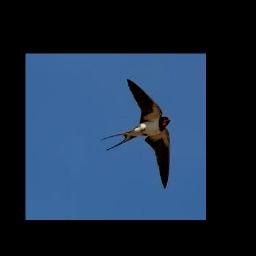Swallow: (101, 79, 172, 189)
